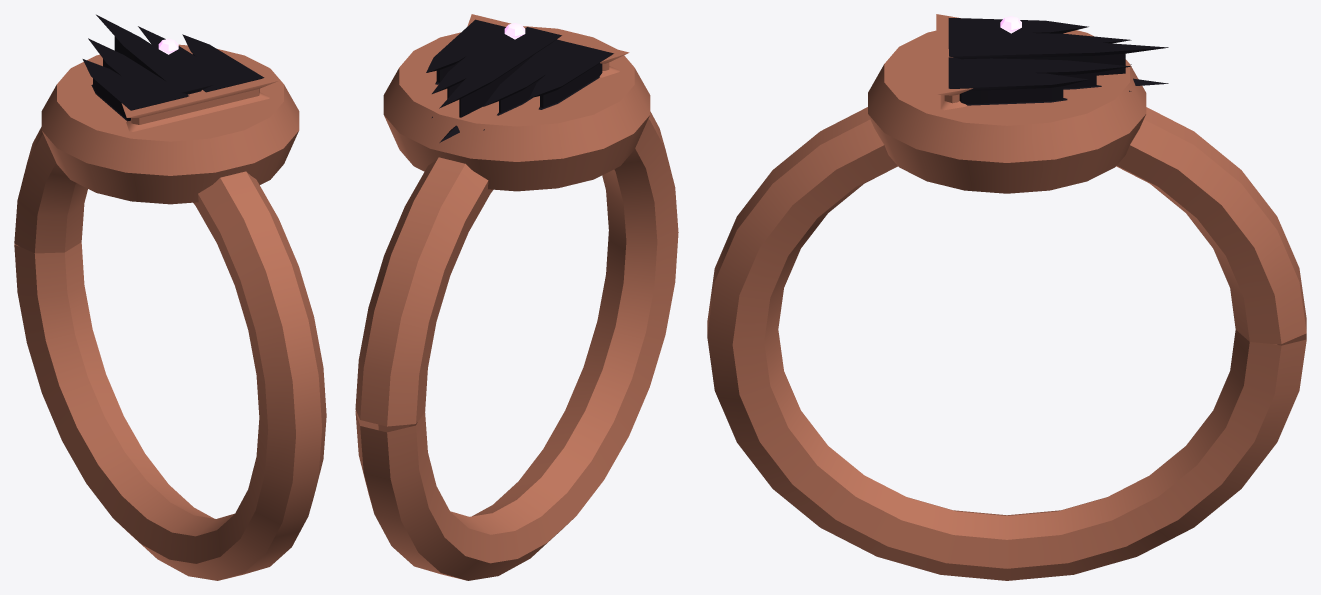
The model's file is boss_obsidian_oath_accessory_1.glb.
3 views of the same model, side by side, from view 1: azimuth 30°, elevation 25°; view 2: azimuth 150°, elevation 25°; view 3: azimuth 270°, elevation 25° (orthographic). The views are drawn at different scales.
Parts seen in each view (by area): view 1: boss_obsidian_oath_accessory_1; view 2: boss_obsidian_oath_accessory_1; view 3: boss_obsidian_oath_accessory_1.
Part boxes in pixels (x1,y1,x2,y2): boss_obsidian_oath_accessory_1: (14, 14, 326, 580); boss_obsidian_oath_accessory_1: (355, 14, 678, 580); boss_obsidian_oath_accessory_1: (707, 14, 1306, 580).
Size of the model in its own units: 0.068 by 0.1476 by 0.1442.
